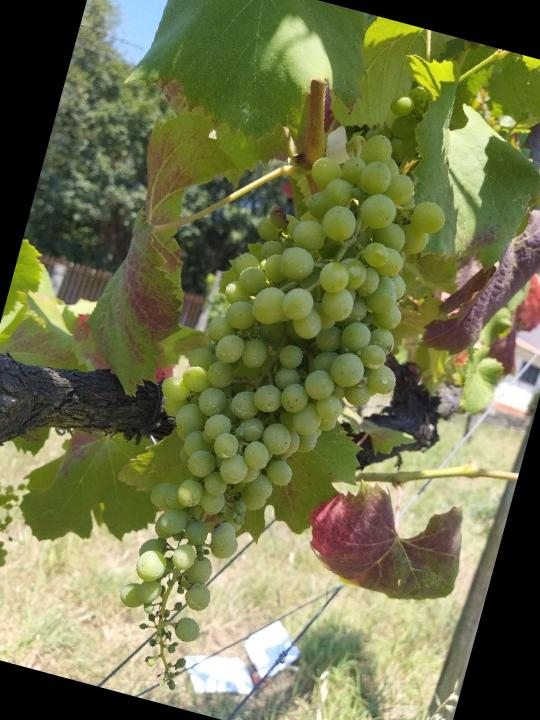grape: (86, 40, 475, 720), (0, 462, 39, 655)
